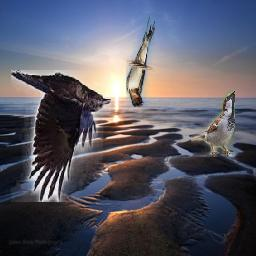Crow: (11, 70, 111, 202)
Sparrow: (191, 91, 235, 158)
Swallow: (127, 15, 156, 107)
